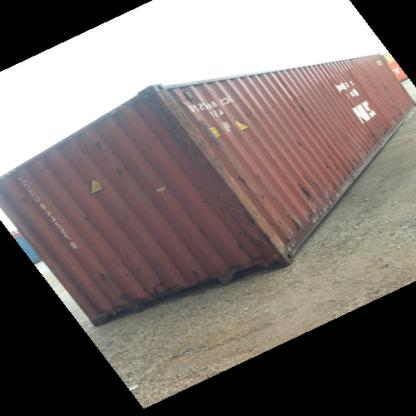Damage: (144, 92, 224, 176), (82, 243, 164, 304), (230, 204, 276, 260), (319, 156, 351, 182), (362, 119, 390, 143), (277, 206, 301, 230), (78, 206, 98, 229), (232, 168, 252, 190), (292, 180, 316, 198), (292, 94, 308, 114), (110, 160, 127, 178), (304, 203, 320, 222), (88, 136, 106, 152), (14, 191, 32, 206), (376, 76, 389, 92), (390, 104, 402, 119), (290, 136, 306, 147)
